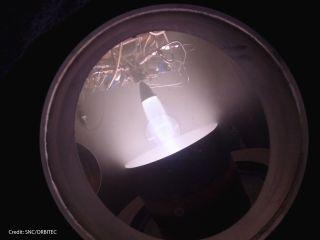thruster: (138, 82, 157, 105)
